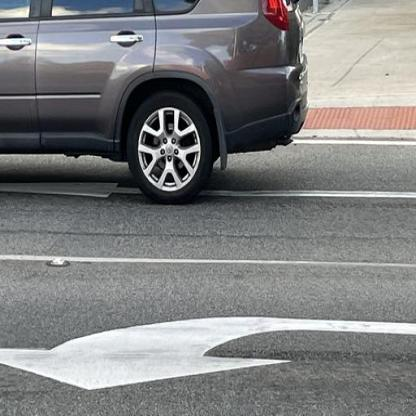Tire: (127, 92, 215, 206)
